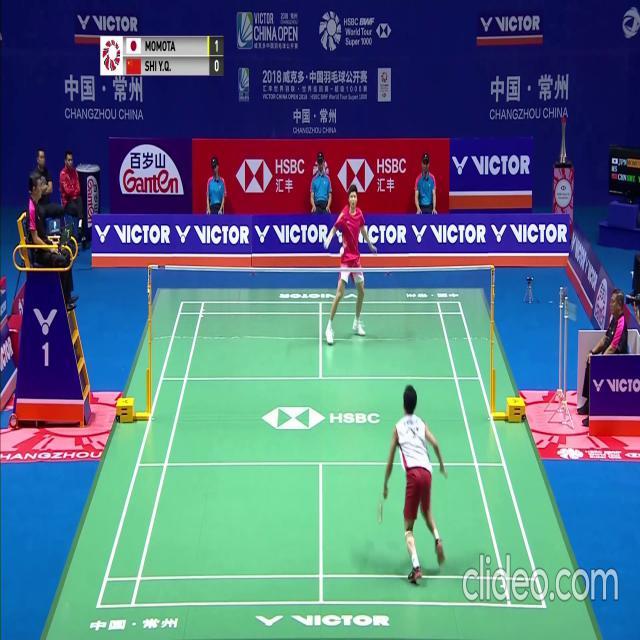Shuttlecock: (339, 248, 344, 256)
